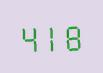eight: (63, 19, 84, 51)
four: (18, 21, 39, 53)
one: (41, 20, 62, 52)
